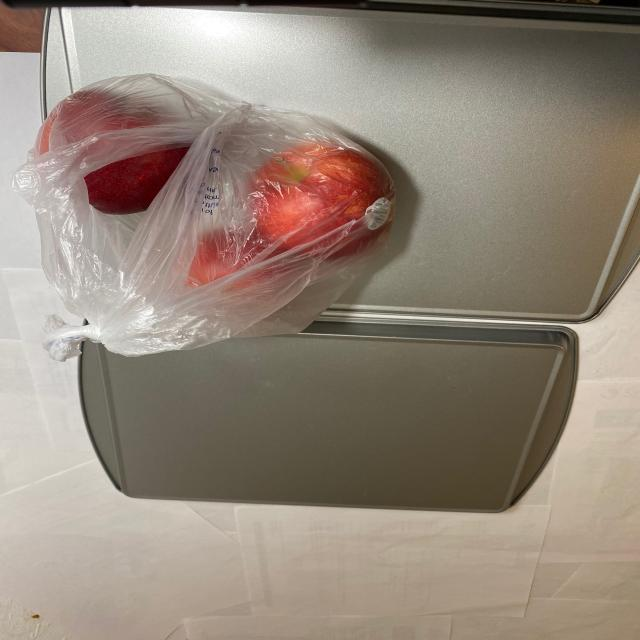apple: (33, 66, 394, 314)
